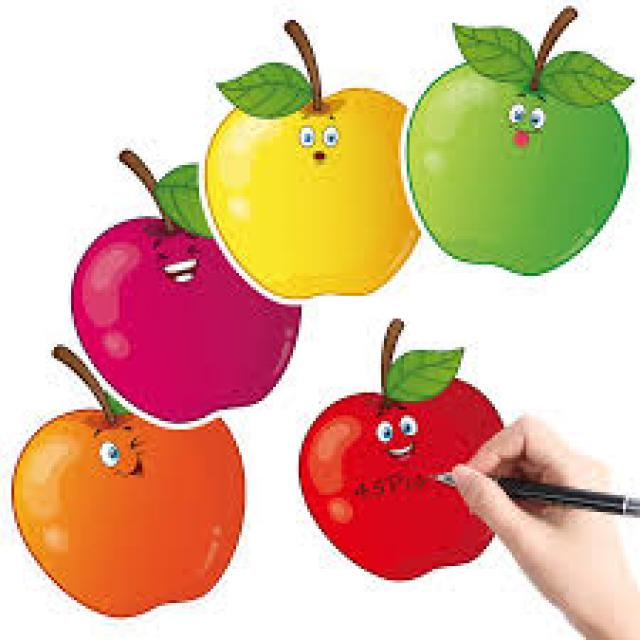Apple: (404, 51, 633, 274), (300, 377, 519, 570)
